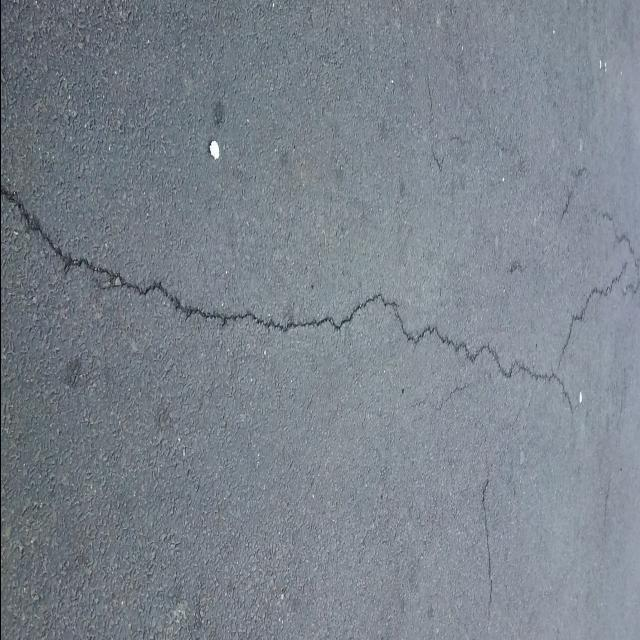Crack: (0, 185, 573, 415), (561, 264, 626, 361), (601, 212, 640, 297), (480, 479, 491, 598), (559, 192, 571, 226), (431, 145, 442, 176)
